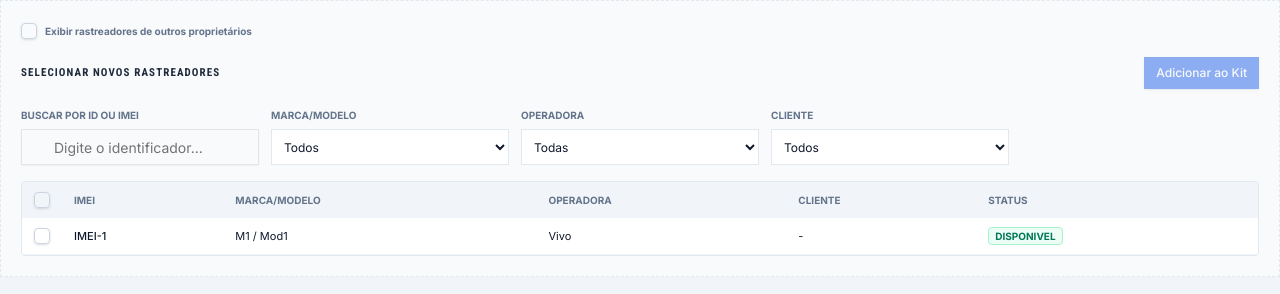
Scenario: ModalSelecaoEKitPanelNovosRastreadores › tabela de aparelhos › clique no checkbox da linha alterna uma vez (stopPropagation evita duplo toggle da tr)
What coordinates should you click on to do the following:
click the checkbox next to "IMEI-1"
I would click on:
 (42, 236)
Its box is [34,228,50,244].
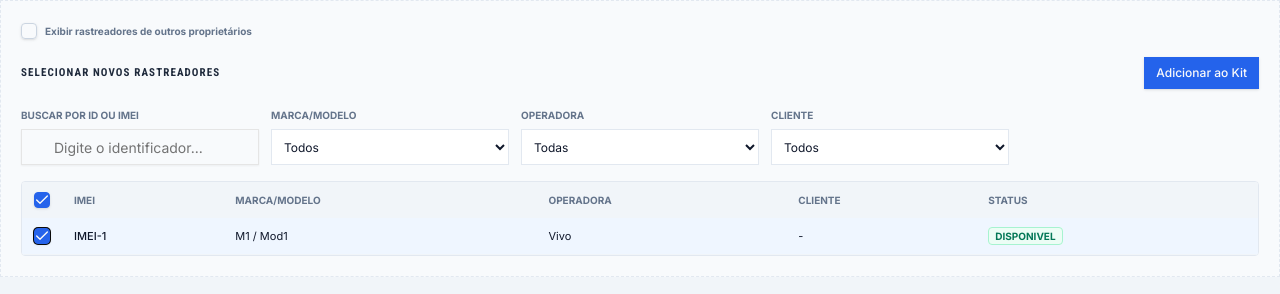
Result: the button "Adicionar ao Kit" is enabled at [1144,57,1259,89]
What coordinates should you click on to do the following:
click the checkbox next to "IMEI-1"
I would click on:
 (42, 236)
Its box is [34,228,50,244].
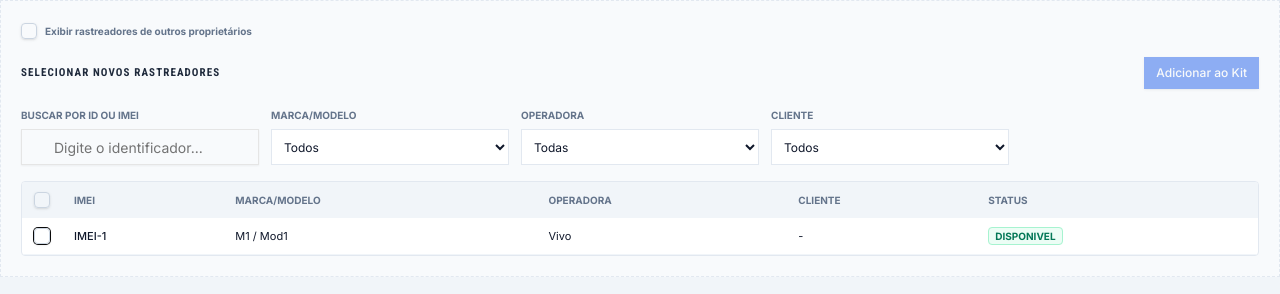
Result: the button "Adicionar ao Kit" is disabled at [1144,57,1259,89]
